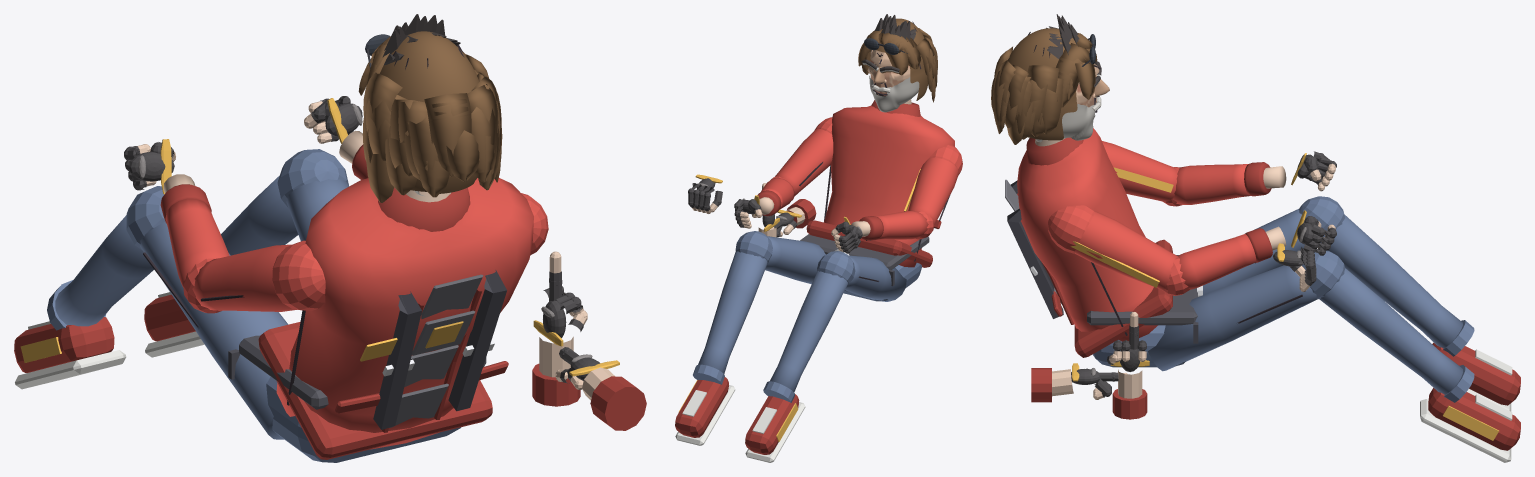
File: driver.glb
3 renders of one model, left to right at view 1: azimuth 30°, elevation 25°; view 2: azimuth 150°, elevation 25°; view 3: azimuth 270°, elevation 25°, orthographic. The views are drawn at different scales.
Visible parts, largest first — view 1: MESH_DRIVER_TORSO, MESH_DRIVER_HEAD, MESH_UPPER_ARM_L, MESH_SHIN_L, MESH_THIGH_L, MESH_FOOT_L, MESH_SHIN_R, MESH_FOREARM_L, MESH_TAUNT_HAND, MESH_POINT_HAND_L, MESH_DRIVER_HIPS, MESH_FOOT_R (+6 smaller); view 2: MESH_DRIVER_TORSO, MESH_SHIN_R, MESH_SHIN_L, MESH_DRIVER_HEAD, MESH_UPPER_ARM_L, MESH_FOOT_R, MESH_FOOT_L, MESH_UPPER_ARM_R, MESH_THIGH_R, MESH_FOREARM_L, MESH_THIGH_L, MESH_DRIVER_HIPS (+8 smaller); view 3: MESH_DRIVER_TORSO, MESH_DRIVER_HEAD, MESH_THIGH_R, MESH_SHIN_R, MESH_SHIN_L, MESH_UPPER_ARM_R, MESH_FOOT_R, MESH_FOREARM_R, MESH_FOREARM_L, MESH_TAUNT_HAND, MESH_UPPER_ARM_L, MESH_FOOT_L (+8 smaller).
Part boxes in pixels (x1,y1,x2,y2): MESH_DRIVER_TORSO: (228, 178, 533, 459); MESH_DRIVER_HEAD: (358, 31, 502, 202); MESH_UPPER_ARM_L: (192, 240, 325, 311); MESH_SHIN_L: (47, 186, 164, 330); MESH_THIGH_L: (140, 221, 288, 439); MESH_FOOT_L: (14, 317, 126, 389); MESH_SHIN_R: (221, 149, 348, 255); MESH_FOREARM_L: (160, 174, 229, 313); MESH_TAUNT_HAND: (532, 251, 587, 406); MESH_POINT_HAND_L: (555, 347, 646, 430); MESH_DRIVER_HIPS: (239, 335, 486, 462); MESH_FOOT_R: (144, 292, 204, 357); MESH_DRIVER_TORSO: (806, 99, 954, 286); MESH_SHIN_R: (693, 231, 772, 384); MESH_SHIN_L: (763, 251, 855, 402); MESH_DRIVER_HEAD: (858, 18, 937, 102); MESH_UPPER_ARM_L: (904, 144, 962, 225); MESH_FOOT_R: (675, 377, 735, 445); MESH_FOOT_L: (745, 394, 805, 462); MESH_UPPER_ARM_R: (775, 117, 833, 196); MESH_THIGH_R: (765, 236, 825, 284); MESH_FOREARM_L: (851, 210, 934, 240); MESH_THIGH_L: (845, 255, 906, 301); MESH_DRIVER_HIPS: (800, 234, 929, 301); MESH_DRIVER_TORSO: (1005, 128, 1202, 357); MESH_DRIVER_HEAD: (991, 28, 1100, 144); MESH_THIGH_R: (1148, 265, 1317, 371); MESH_SHIN_R: (1301, 250, 1474, 402); MESH_SHIN_L: (1299, 196, 1474, 356); MESH_UPPER_ARM_R: (1048, 205, 1176, 289); MESH_FOOT_R: (1420, 388, 1520, 462); MESH_FOREARM_R: (1161, 226, 1286, 295); MESH_FOREARM_L: (1163, 162, 1286, 206); MESH_TAUNT_HAND: (1107, 312, 1149, 419); MESH_UPPER_ARM_L: (1102, 141, 1177, 201); MESH_FOOT_L: (1432, 342, 1520, 411).
Bounding box in the file's own units: 0.727 × 1.11 × 1.29.
